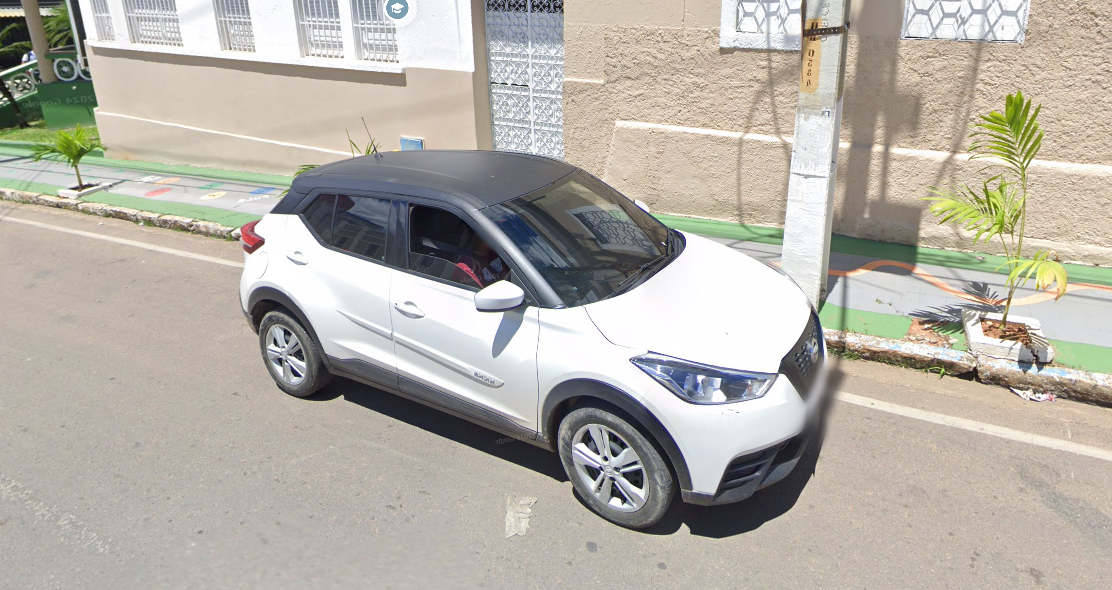car: (229, 112, 846, 550)
